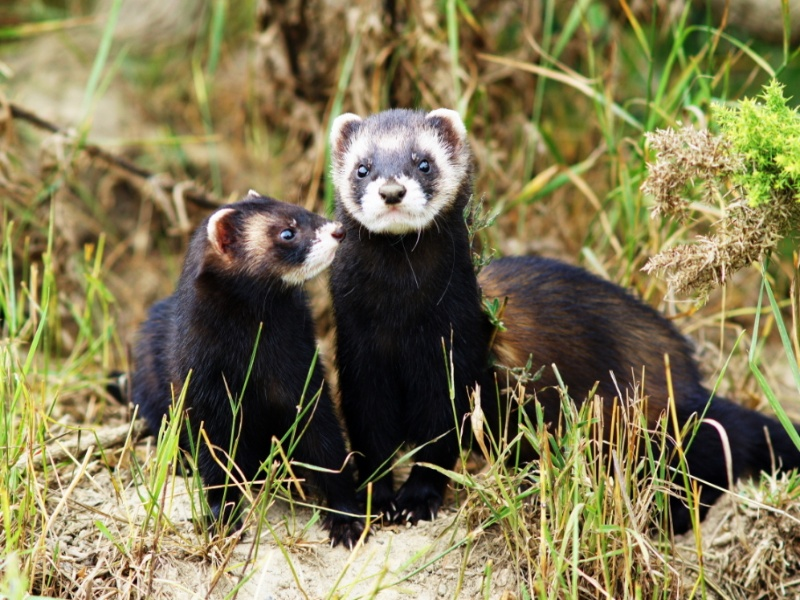minkish: (319, 103, 800, 536), (127, 189, 346, 548)
